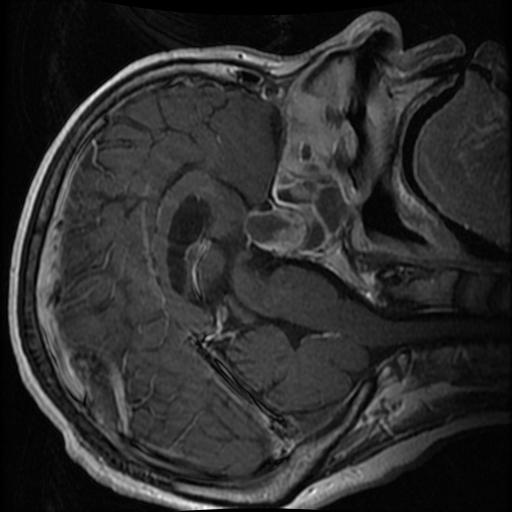pituitary tumour: (241, 209, 306, 255)
